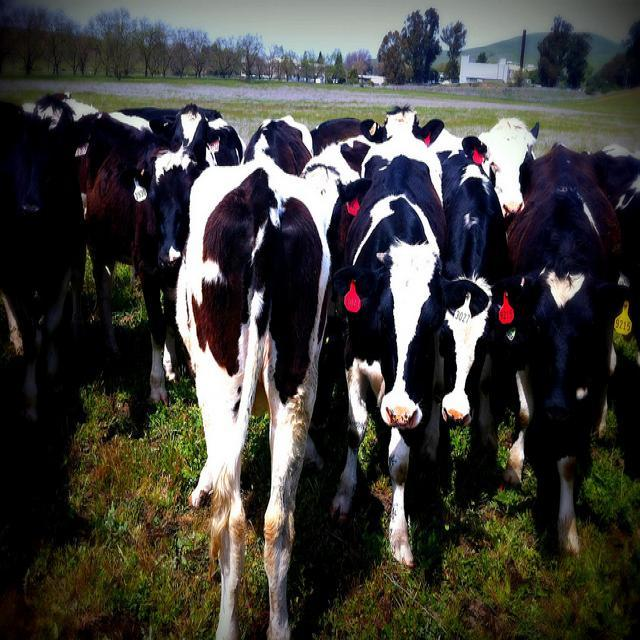cow: (172, 114, 330, 629), (505, 139, 638, 552), (326, 129, 446, 568), (412, 150, 519, 584), (84, 110, 203, 406), (0, 98, 84, 485), (311, 115, 387, 295), (460, 115, 542, 218), (30, 91, 103, 206), (591, 141, 639, 301), (164, 103, 241, 171), (383, 103, 464, 155)
